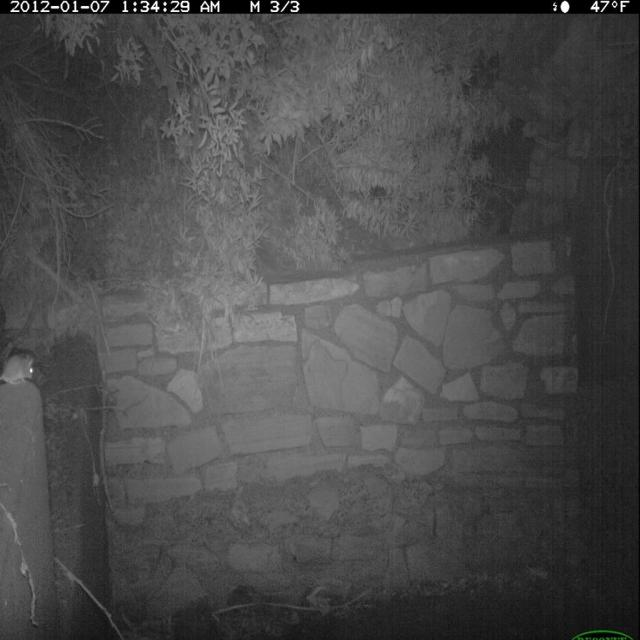rodent: (3, 338, 46, 400)
